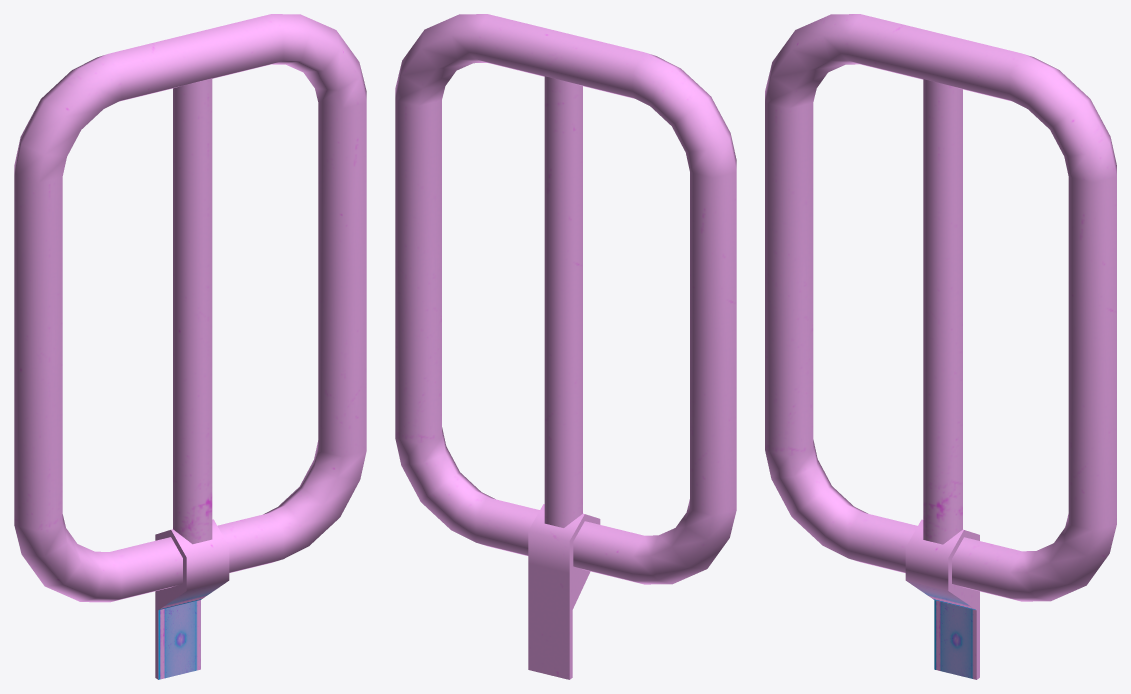
File: Rail_05_SM_Low.fbx
3 renders of one model, left to right at view 1: azimuth 30°, elevation 25°; view 2: azimuth 150°, elevation 25°; view 3: azimuth 330°, elevation 25°, orthographic. The views are drawn at different scales.
Visible parts, largest first — view 1: BabyLength; view 2: BabyLength; view 3: BabyLength.
Part boxes in pixels (x1=…): BabyLength: x1=14, y1=14, x2=366, y2=679; BabyLength: x1=395, y1=14, x2=736, y2=679; BabyLength: x1=765, y1=14, x2=1116, y2=679.
Size of the model in its own units: 62.84 by 111 by 9.76.
Materials: 1 (1 with a texture image).
